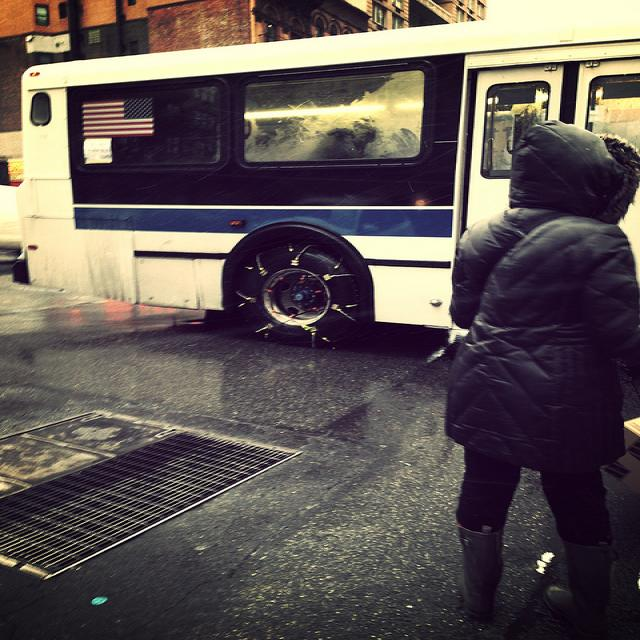Vehicle: (13, 7, 640, 342)
